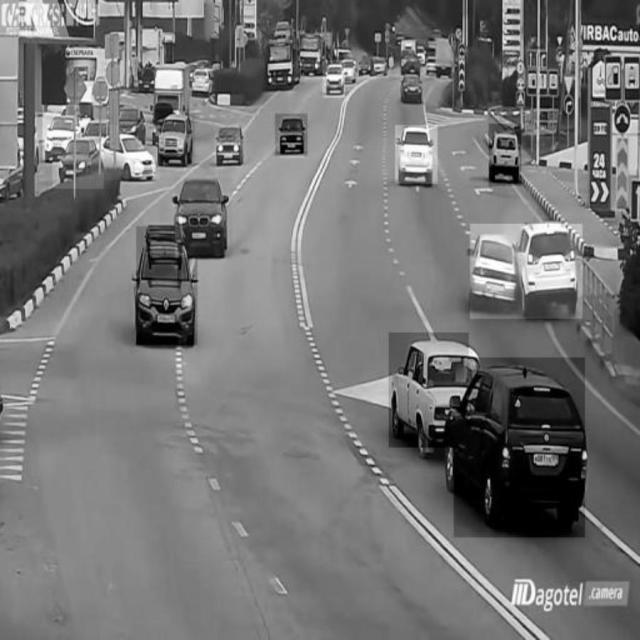accident: (470, 224, 582, 318)
vehicle: (454, 358, 585, 538), (390, 332, 470, 446), (137, 227, 198, 345), (176, 178, 233, 258), (103, 125, 160, 180), (53, 135, 104, 190), (396, 125, 438, 183), (153, 109, 195, 163), (43, 106, 80, 161), (489, 124, 521, 186), (268, 35, 304, 86), (276, 115, 308, 157), (214, 122, 246, 162), (396, 63, 426, 103), (190, 61, 215, 98), (323, 61, 345, 98)
